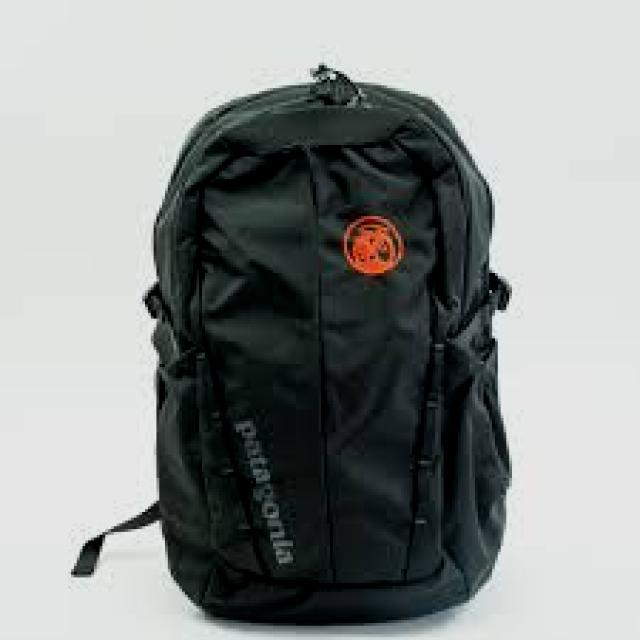backpack: (69, 64, 513, 624)
